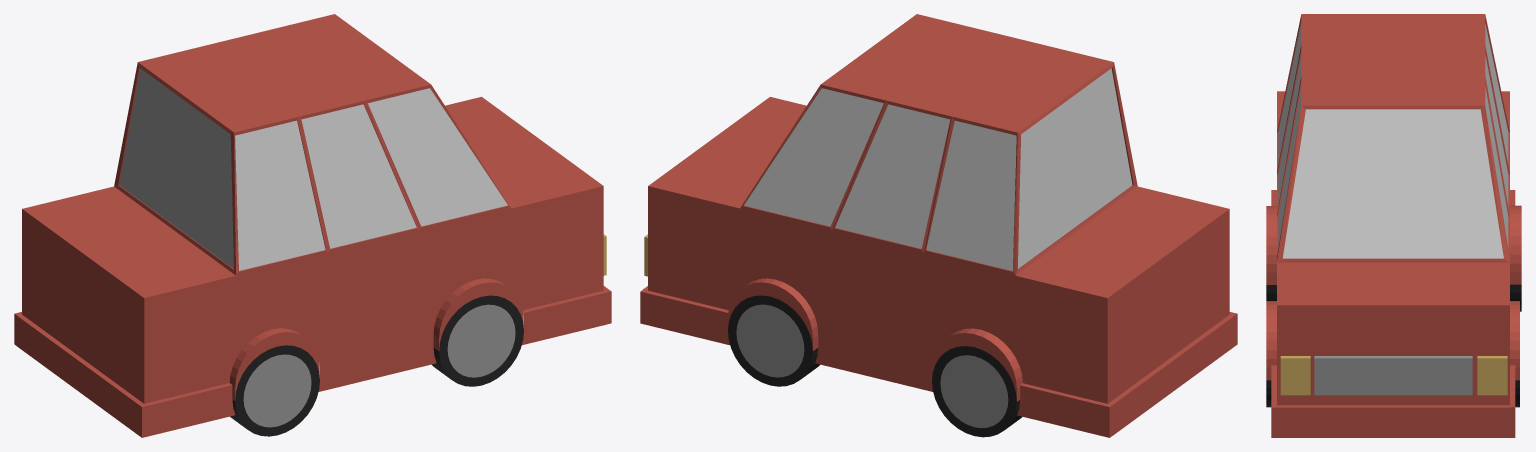
File: lowPolyCar2.dae
3 renders of one model, left to right at view 1: azimuth 30°, elevation 25°; view 2: azimuth 150°, elevation 25°; view 3: azimuth 270°, elevation 25°, orthographic. The views are drawn at different scales.
Parts seen in each view (by area): view 1: Cube, Cylinder, Cylinder_001; view 2: Cube, Cylinder_003, Cylinder_002; view 3: Cube, Cube_001, Cube_003, Cube_002, Cylinder_003, Cylinder_001, Cylinder, Cylinder_002.
Part boxes in pixels (x1,y1,x2,y2): Cube: [14, 14, 611, 437]; Cylinder: [431, 278, 523, 386]; Cylinder_001: [229, 328, 319, 436]; Cube: [640, 14, 1237, 437]; Cylinder_003: [932, 328, 1022, 437]; Cylinder_002: [728, 278, 819, 386]; Cube: [1271, 14, 1515, 437]; Cube_001: [1314, 356, 1472, 395]; Cube_003: [1477, 356, 1507, 395]; Cube_002: [1280, 356, 1310, 395]; Cylinder_003: [1510, 205, 1521, 311]; Cylinder_001: [1266, 206, 1276, 300]; Cylinder: [1266, 301, 1276, 407]; Cylinder_002: [1510, 301, 1519, 407].
Bounding box in the file's own units: 7.5 × 3.7 × 4.51.
